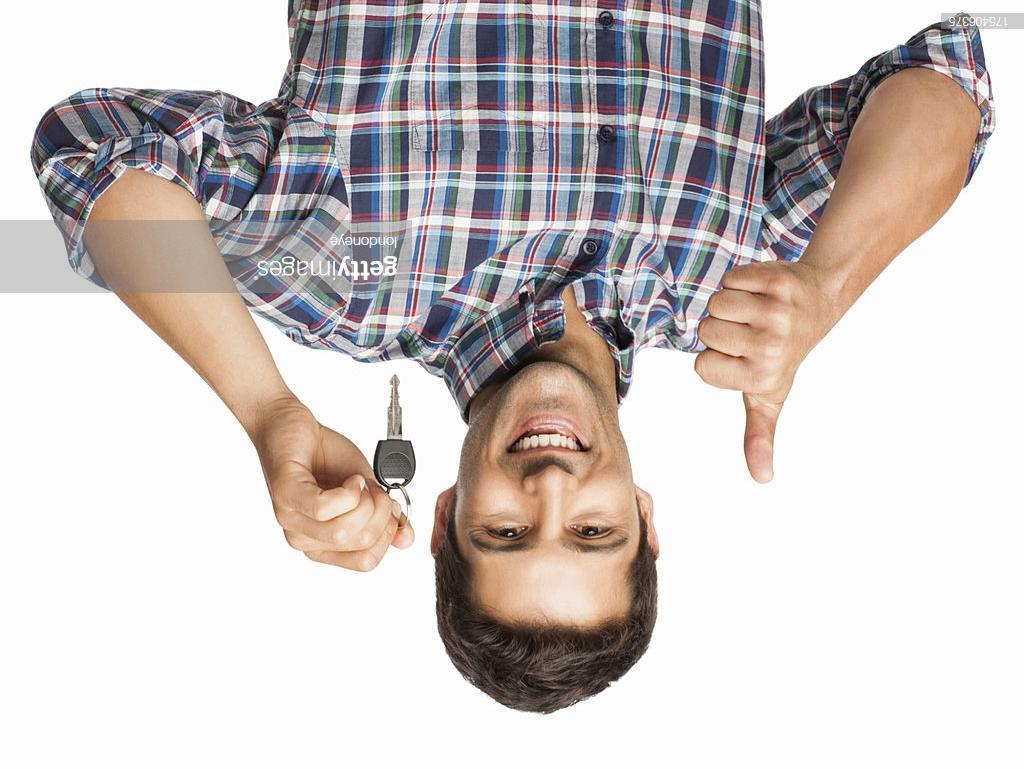thumbsdown: (692, 260, 803, 486)
